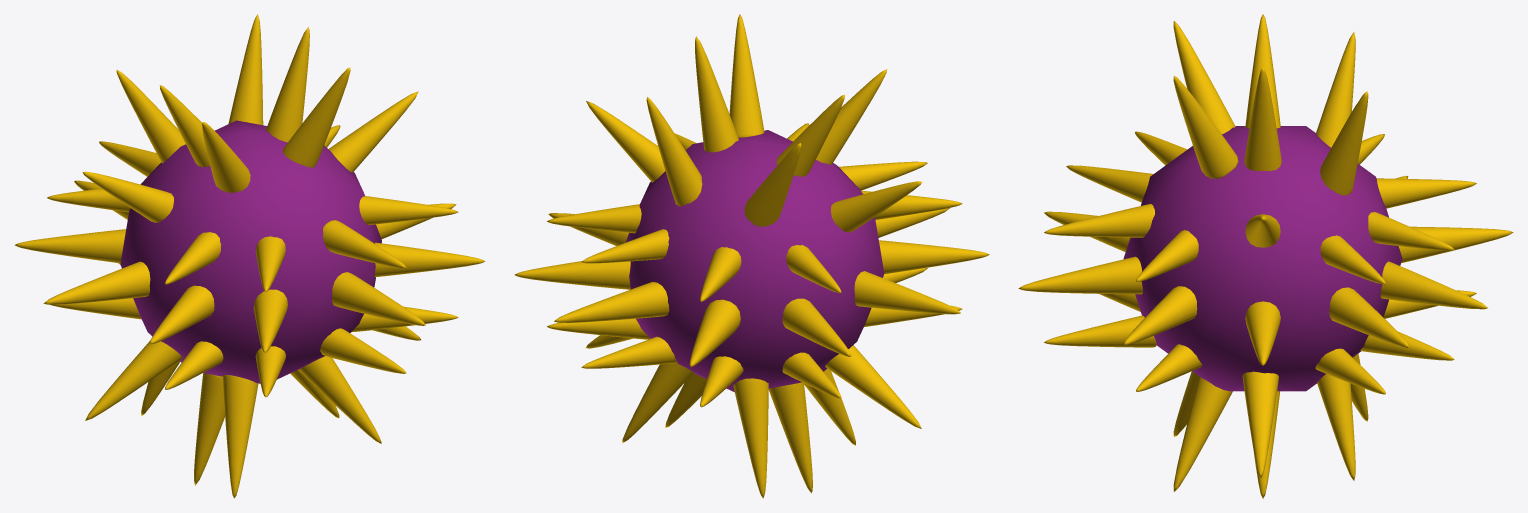
File: Ouriço.fbx
3 renders of one model, left to right at view 1: azimuth 30°, elevation 25°; view 2: azimuth 150°, elevation 25°; view 3: azimuth 270°, elevation 25°, orthographic. The views are drawn at different scales.
Visible parts, largest first — view 1: ourico; view 2: ourico; view 3: ourico.
Boxes of the visible parts, left/top/right/bottom form: ourico: left=14, top=14, right=485, bottom=498; ourico: left=514, top=14, right=989, bottom=498; ourico: left=1018, top=14, right=1513, bottom=498.
Size of the model in its own units: 63.1 by 62.84 by 62.84.
